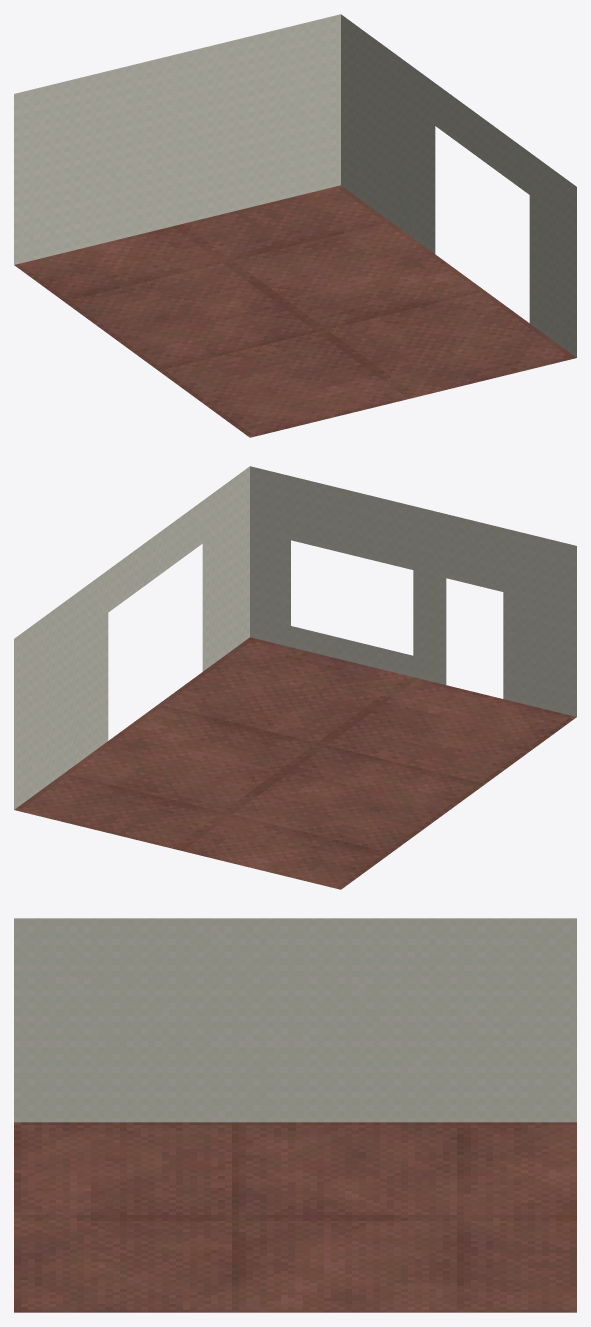
The model's file is TravelAgencyMainInner.glb.
3 views of the same model, one above another, from view 1: azimuth 30°, elevation 25°; view 2: azimuth 150°, elevation 25°; view 3: azimuth 270°, elevation 25° (orthographic). The views are drawn at different scales.
Parts seen in each view (by area): view 1: TravelAgency_MainInner; view 2: TravelAgency_MainInner; view 3: TravelAgency_MainInner.
Boxes of the visible parts, x1,y1,x2,y2 form: TravelAgency_MainInner: (14, 14, 576, 437); TravelAgency_MainInner: (14, 466, 576, 889); TravelAgency_MainInner: (14, 918, 576, 1312).
Size of the model in its own units: 8 by 4 by 10.
3 materials, 3 textured.
